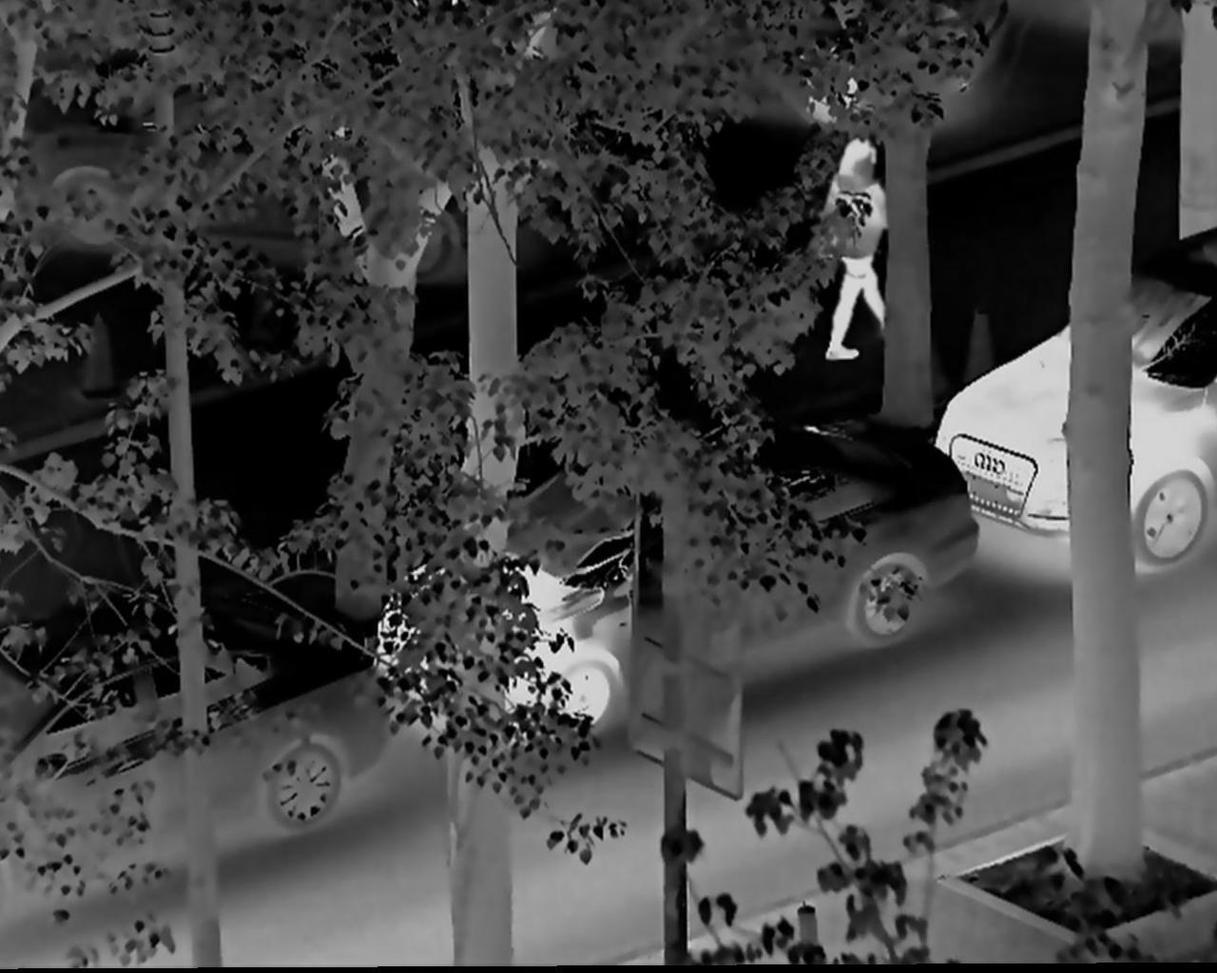person: (817, 126, 893, 381)
